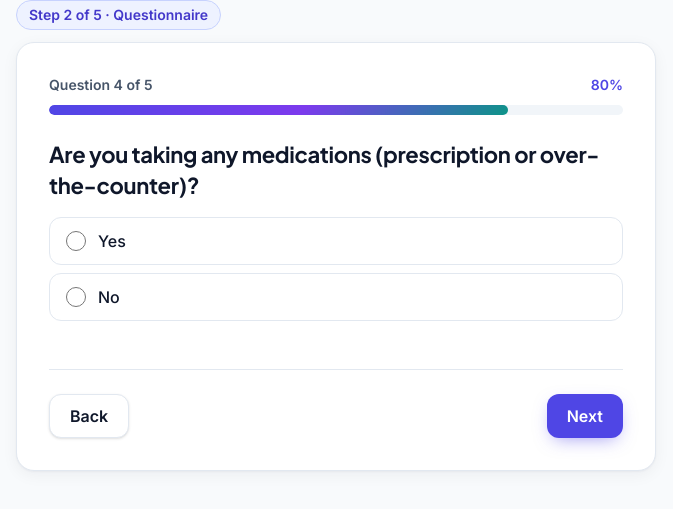
Test: Question types › Yes/No asks for a choice before moving on
Expected: the radio button with test id "question-yes" is shown, left=66, top=231, right=86, bottom=251
Click the button with test id "wizard-next-button" at point(585, 416), box left=547, top=394, right=623, bottom=438
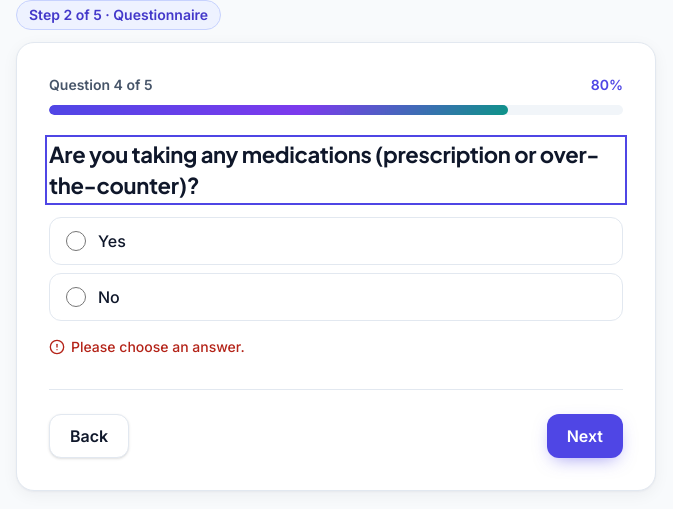
Expected: the element with test id "question-error" reads "Please choose an answer.", left=71, top=338, right=245, bottom=355
